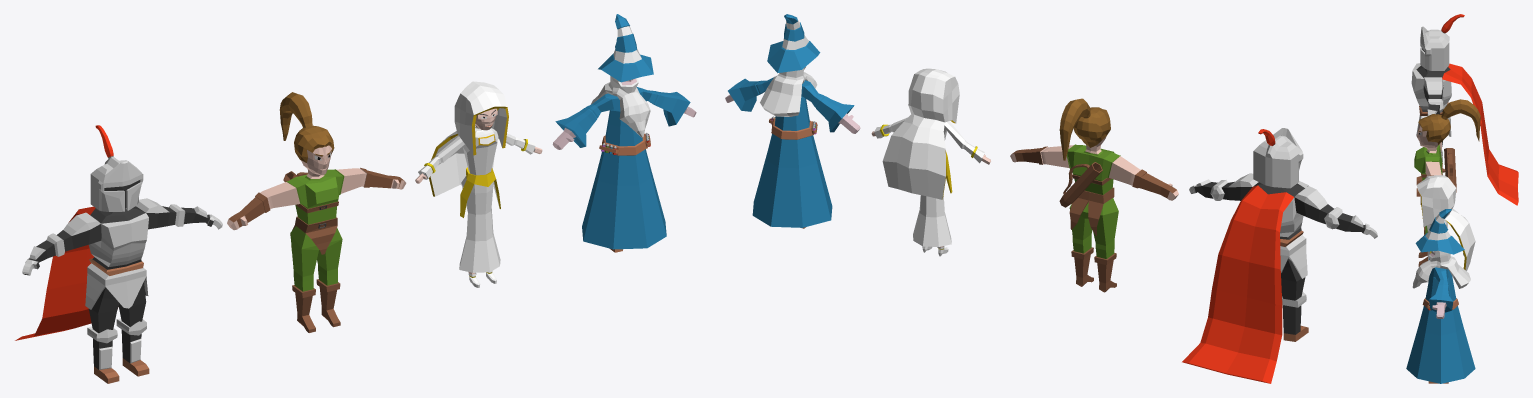
Rendered from uploads_files_2929495_character+design+1.fbx.
3 views of the same model, side by side, from view 1: azimuth 30°, elevation 25°; view 2: azimuth 150°, elevation 25°; view 3: azimuth 270°, elevation 25° (orthographic). The views are drawn at different scales.
Parts seen in each view (by area): view 1: knight, mage, archer, priest; view 2: knight, mage, archer, priest; view 3: mage, knight, archer, priest.
Boxes of the visible parts, x1,y1,x2,y2 form: knight: (15, 125, 222, 383); mage: (552, 14, 696, 252); archer: (227, 92, 406, 332); priest: (415, 81, 542, 287); knight: (1182, 128, 1377, 383); mage: (725, 14, 860, 228); archer: (1010, 98, 1178, 292); priest: (871, 68, 990, 256); mage: (1406, 209, 1475, 383); knight: (1411, 14, 1518, 205); archer: (1414, 99, 1480, 266); priest: (1417, 175, 1475, 281).
Bounding box in the file's own units: 152 × 49.42 × 28.75.
1 material, 1 textured.
